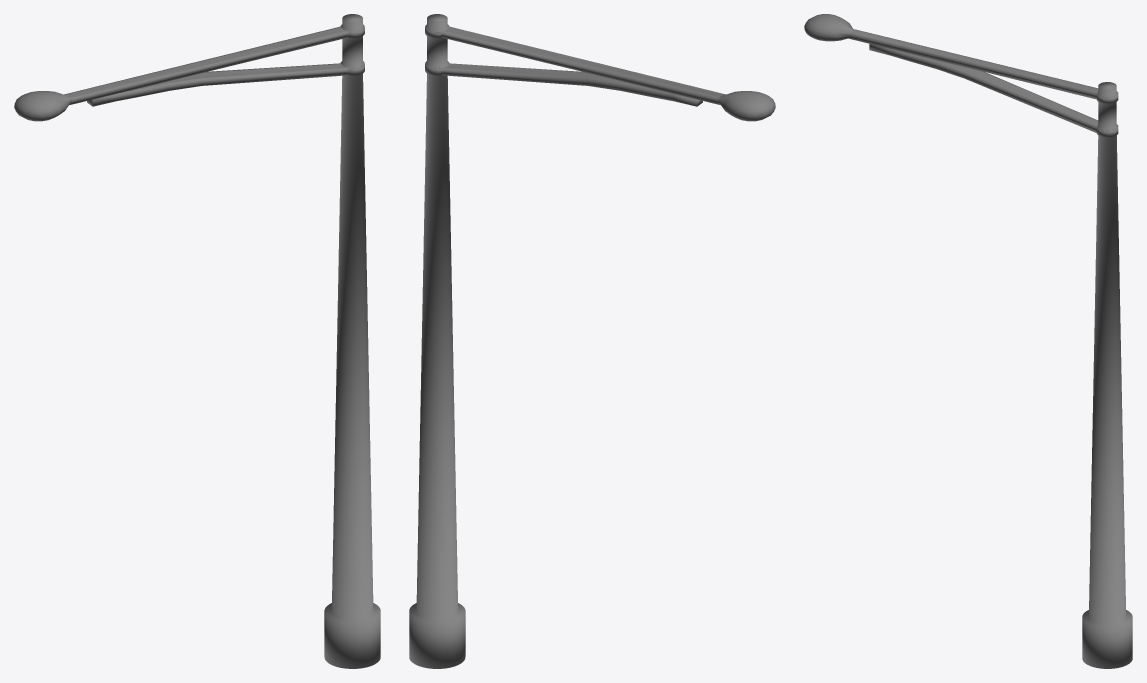
The model's file is StreetLight1.fbx.
The picture shows the model from 3 angles, left to right: view 1: azimuth 30°, elevation 25°; view 2: azimuth 150°, elevation 25°; view 3: azimuth 330°, elevation 25°; orthographic projection. The views are drawn at different scales.
Parts seen in each view (by area): view 1: StreetLights1; view 2: StreetLights1; view 3: StreetLights1.
Boxes of the visible parts, x1,y1,x2,y2 form: StreetLights1: [14, 14, 380, 668]; StreetLights1: [409, 14, 775, 668]; StreetLights1: [804, 14, 1132, 668].
Bounding box in the file's own units: 12288 × 20850 × 1671.
1 material, 1 textured.
